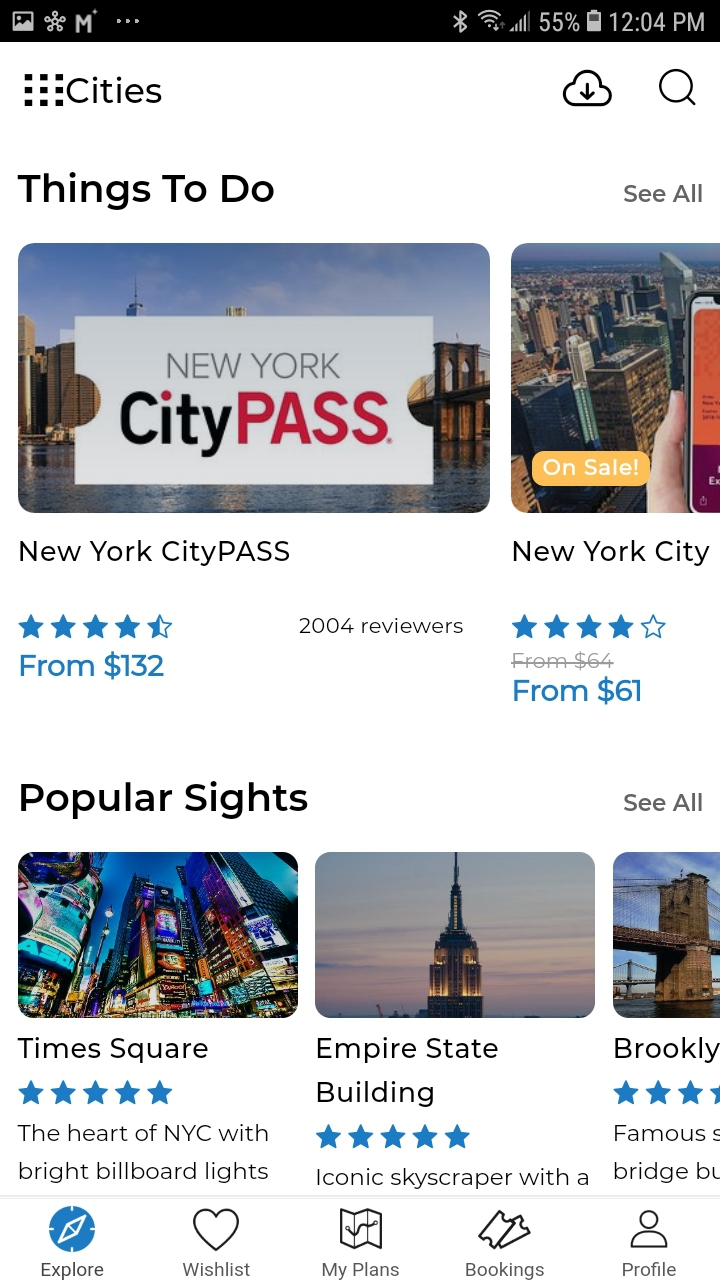Icon: (316, 1123, 471, 1149), (512, 613, 667, 639), (19, 614, 174, 640), (19, 1080, 173, 1105), (613, 1079, 720, 1105), (478, 1209, 532, 1250), (50, 1206, 96, 1252), (193, 1207, 240, 1251), (562, 70, 612, 108), (340, 1208, 383, 1250), (630, 1210, 668, 1249), (659, 69, 696, 107), (25, 75, 65, 108)
Image: (18, 243, 491, 514), (511, 243, 720, 514), (18, 852, 299, 1019), (315, 852, 595, 1019), (613, 852, 720, 1018)
Text: (17, 1124, 269, 1184), (317, 1036, 498, 1108), (21, 781, 308, 819), (18, 172, 275, 211), (20, 539, 290, 567), (614, 1124, 720, 1184), (317, 1167, 589, 1190), (18, 1036, 209, 1064), (513, 540, 710, 567), (21, 651, 166, 680), (513, 676, 641, 706), (299, 617, 463, 635), (615, 1036, 720, 1064), (67, 77, 163, 105), (511, 651, 615, 672), (624, 792, 703, 812), (623, 184, 702, 204), (466, 1261, 545, 1280), (323, 1261, 400, 1280), (42, 1261, 104, 1280), (184, 1262, 252, 1277), (622, 1262, 676, 1277)
TextButton: (531, 451, 650, 487)
UpperTaskBar: (1, 1, 720, 43)
